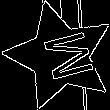M_W: (28, 27, 91, 85)
